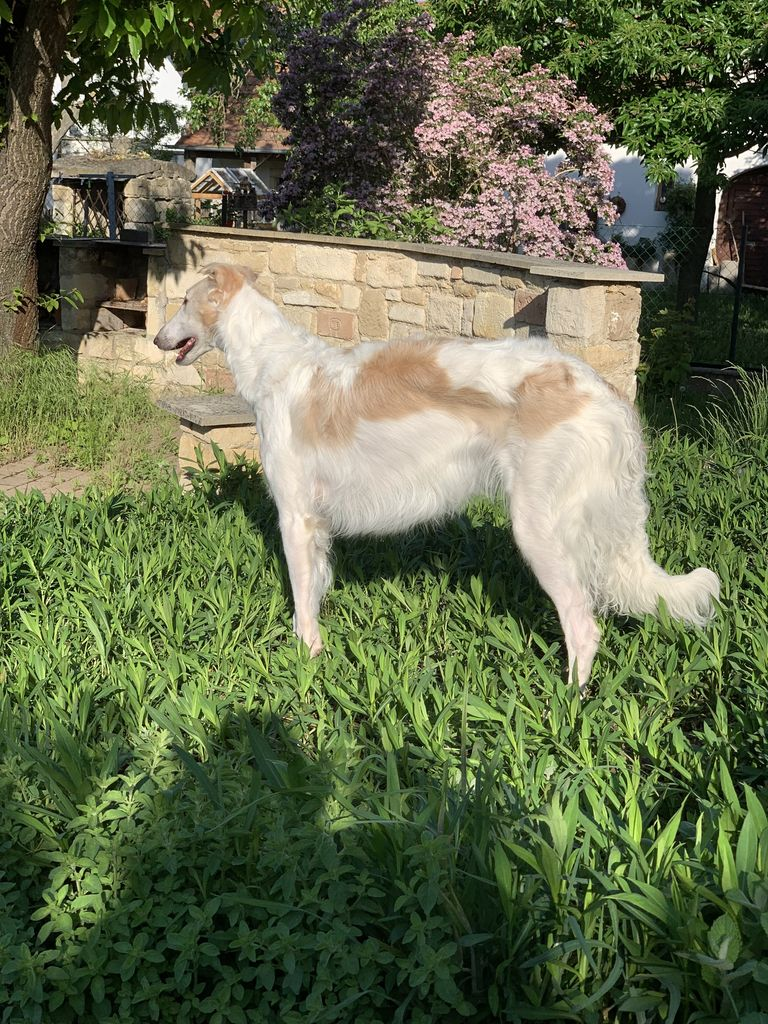borzoi: (123, 240, 741, 689)
